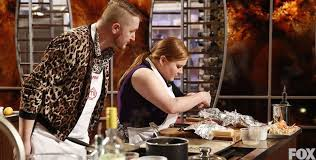Bad: (18, 1, 212, 115)
